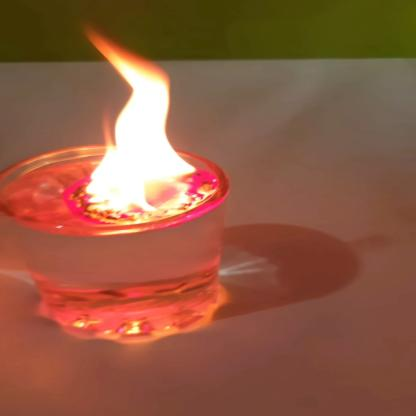Fire: (75, 29, 207, 216)
